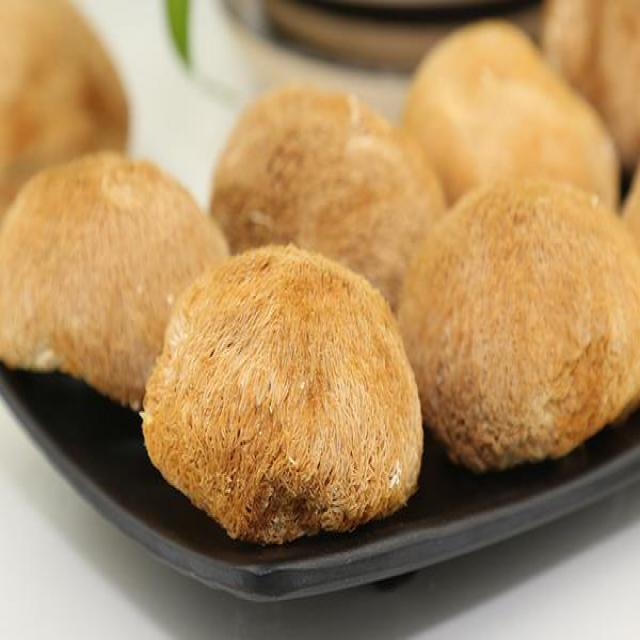Hericium erinaceus: (141, 249, 426, 536), (399, 174, 640, 469), (0, 150, 226, 405), (210, 82, 446, 290), (402, 28, 618, 210), (0, 0, 129, 214)
